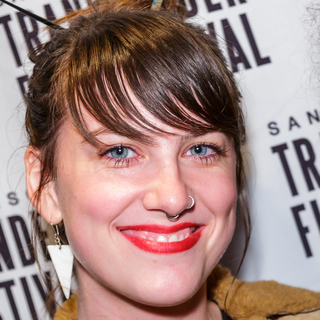eye: (95, 140, 147, 167), (177, 139, 228, 165)
